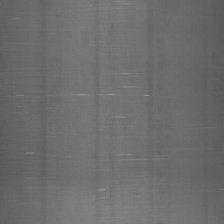waist_folding: (13, 12, 175, 191)
